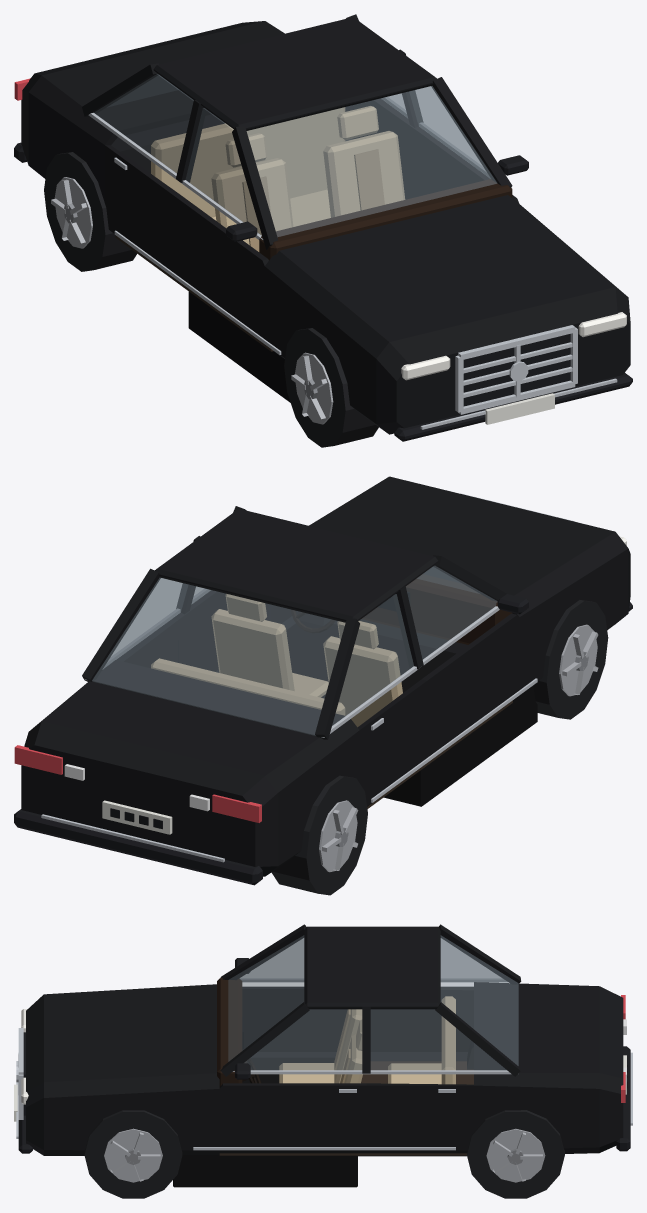
The model's file is jaycutler.glb.
The picture shows the model from 3 angles, top to bottom: view 1: azimuth 30°, elevation 25°; view 2: azimuth 150°, elevation 25°; view 3: azimuth 270°, elevation 25°; orthographic projection. The views are drawn at different scales.
Visible parts, largest first — view 1: Body__Shell, Details, Cabin__Glass, Cabin__Bench__D6C3A1, Wheel_FR, Wheel_RR, Driver_Seat__Seat__D6C3A1, Cabin__Dash__2A1C14, Cabin__Seat__D6C3A1, Cabin__Underbody__0E0E0F, Door_Driver__Shell, Door_Driver__Glass (+3 smaller); view 2: Body__Shell, Cabin__Glass, Details, Cabin__Underbody__0E0E0F, Wheel_RR, Wheel_FR, Driver_Seat__Seat__D6C3A1, Cabin__Dash__2A1C14, Cabin__Seat__D6C3A1, Door_Driver__Shell, Lamps, Cabin__Bench__D6C3A1; view 3: Body__Shell, Details, Cabin__Glass, Door_Driver__Shell, Cabin__Underbody__0E0E0F, Wheel_FL, Wheel_RL, Door_Driver__Glass, Cabin__Dash__2A1C14, Cabin__Bench__D6C3A1, Cabin__Floor__3A2F26, Cabin__Seat__D6C3A1 (+2 smaller).
Boxes of the visible parts, x1,y1,x2,y2 form: Body__Shell: [21, 21, 630, 434]; Details: [14, 14, 632, 441]; Cabin__Glass: [94, 74, 497, 236]; Cabin__Bench__D6C3A1: [151, 107, 345, 226]; Wheel_FR: [284, 328, 378, 447]; Wheel_RR: [44, 152, 136, 271]; Driver_Seat__Seat__D6C3A1: [323, 106, 405, 217]; Cabin__Dash__2A1C14: [259, 179, 512, 260]; Cabin__Seat__D6C3A1: [211, 133, 293, 244]; Cabin__Underbody__0E0E0F: [188, 291, 290, 402]; Door_Driver__Shell: [421, 132, 516, 199]; Door_Driver__Glass: [409, 86, 490, 178]; Body__Shell: [21, 476, 630, 876]; Cabin__Glass: [92, 565, 497, 735]; Details: [14, 493, 632, 885]; Cabin__Underbody__0E0E0F: [286, 620, 537, 806]; Wheel_RR: [271, 775, 367, 895]; Wheel_FR: [533, 600, 608, 719]; Driver_Seat__Seat__D6C3A1: [211, 594, 328, 697]; Cabin__Dash__2A1C14: [361, 574, 512, 644]; Cabin__Seat__D6C3A1: [323, 621, 402, 727]; Door_Driver__Shell: [173, 590, 268, 671]; Lamps: [14, 536, 626, 822]; Cabin__Bench__D6C3A1: [151, 658, 345, 715]; Body__Shell: [26, 982, 623, 1156]; Details: [14, 924, 632, 1153]; Cabin__Glass: [228, 935, 518, 1070]; Door_Driver__Shell: [223, 1083, 366, 1150]; Cabin__Underbody__0E0E0F: [173, 1057, 357, 1187]; Wheel_FL: [84, 1110, 182, 1198]; Wheel_RL: [467, 1110, 564, 1198]; Door_Driver__Glass: [244, 1009, 362, 1070]; Cabin__Dash__2A1C14: [217, 977, 242, 1086]; Cabin__Bench__D6C3A1: [388, 996, 455, 1084]; Cabin__Floor__3A2F26: [219, 1061, 473, 1155]; Cabin__Seat__D6C3A1: [279, 1009, 362, 1083].
Size of the model in its own units: 2.28 by 1.69 by 5.18.
Materials: 9 (4 with a texture image).
